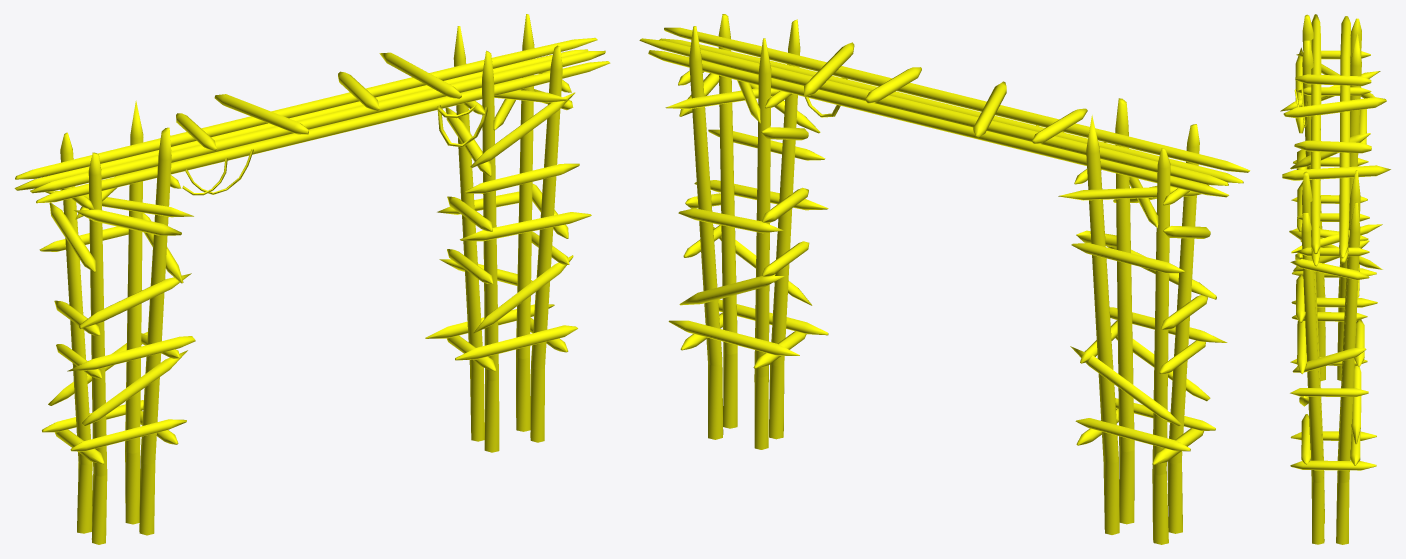
The model's file is gaint_gate_01.glb.
3 renders of one model, left to right at view 1: azimuth 30°, elevation 25°; view 2: azimuth 150°, elevation 25°; view 3: azimuth 270°, elevation 25°, orthographic. The views are drawn at different scales.
Visible parts, largest first — view 1: Object11; view 2: Object11; view 3: Object11.
Part boxes in pixels (bbox=[...]): Object11: bbox=[14, 14, 610, 544]; Object11: bbox=[639, 14, 1250, 544]; Object11: bbox=[1280, 14, 1390, 544].
Size of the model in its own units: 22.51 by 15.29 by 4.41.
Materials: 1 (1 with a texture image).
